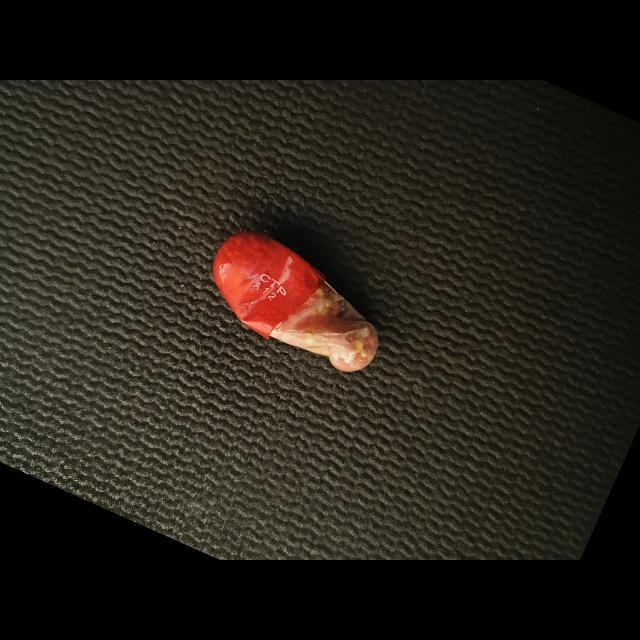Defective Capsule: (213, 232, 378, 372)
